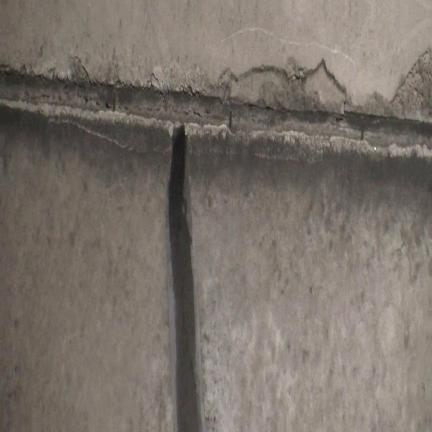crack1: (216, 47, 432, 122)
